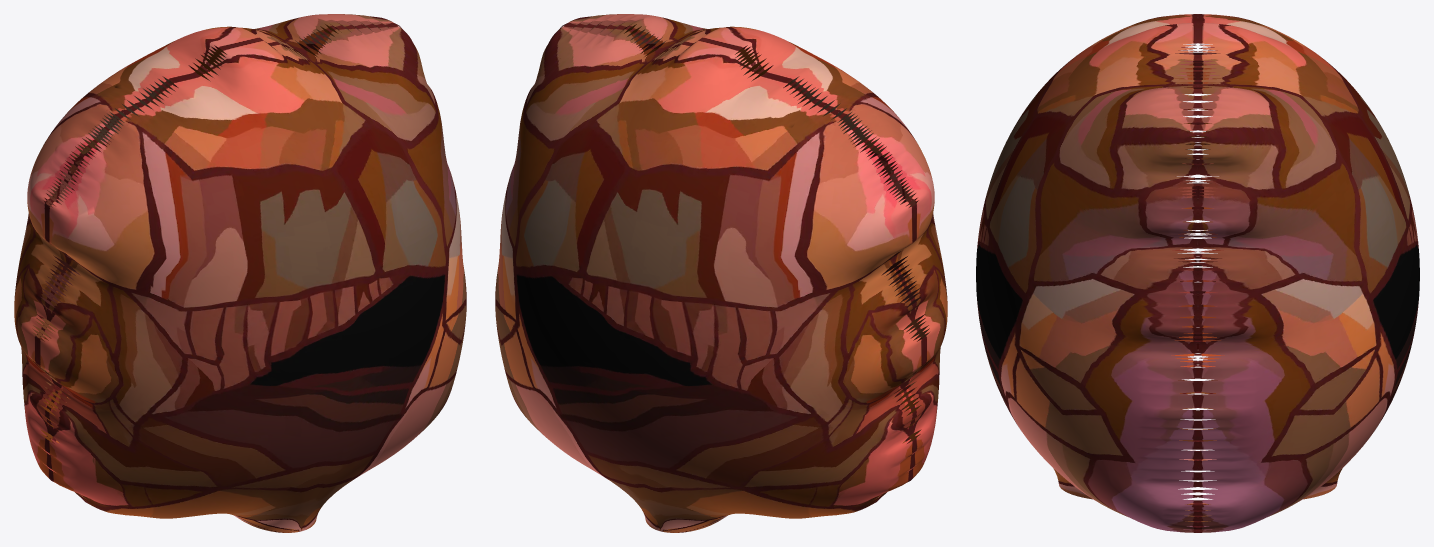
File: cave_entrance.glb
The picture shows the model from 3 angles, left to right: view 1: azimuth 30°, elevation 25°; view 2: azimuth 150°, elevation 25°; view 3: azimuth 270°, elevation 25°; orthographic projection. The views are drawn at different scales.
Parts seen in each view (by area): view 1: cave_entrance; view 2: cave_entrance; view 3: cave_entrance.
Part boxes in pixels (box(x1,y1,x2,y2)): cave_entrance: box(14, 14, 466, 532); cave_entrance: box(495, 14, 947, 532); cave_entrance: box(976, 14, 1419, 532).
Bounding box in the file's own units: 0.9885 × 1.03 × 0.9087.
1 material, 1 textured.
